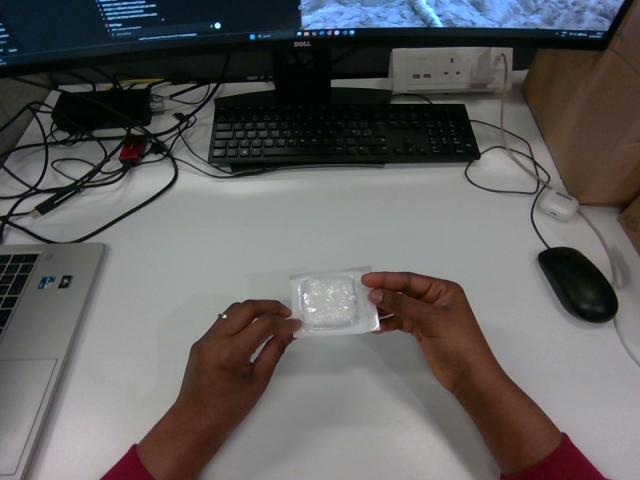gauze: (291, 267, 378, 337)
